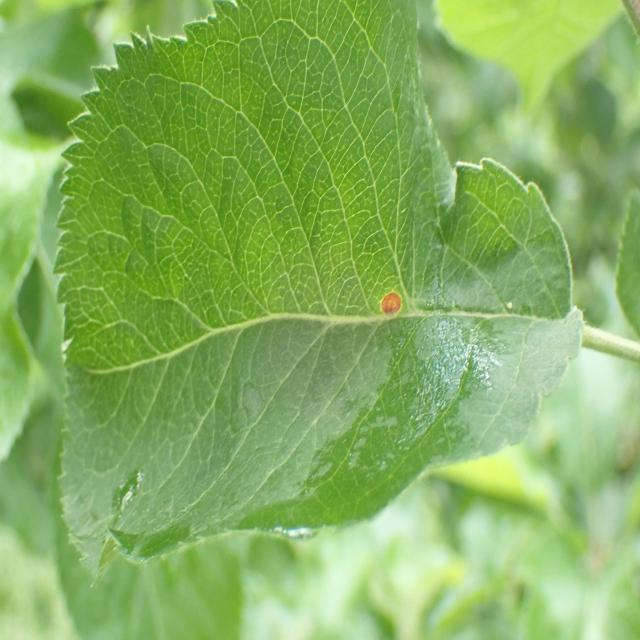Black Rot: (362, 256, 410, 332)
